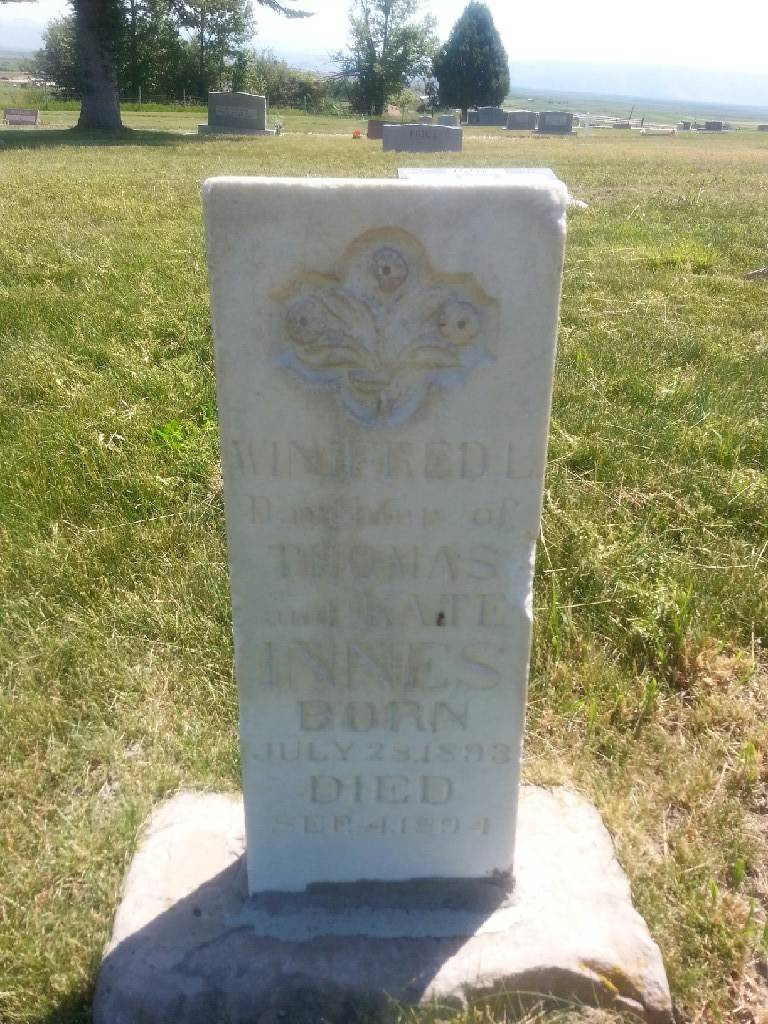upright: (194, 172, 557, 916)
